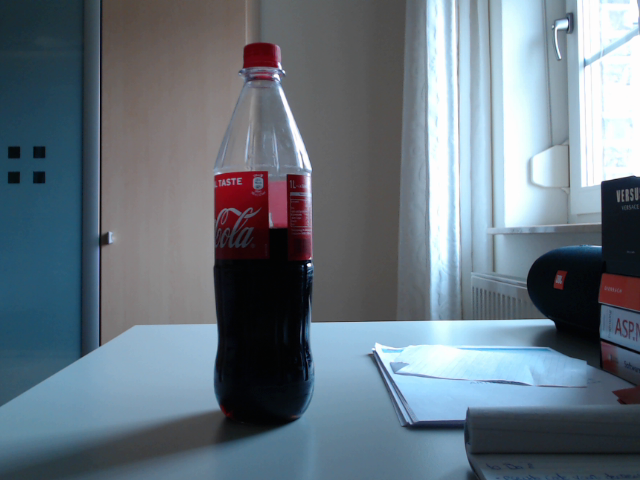bottle: (213, 43, 315, 425)
